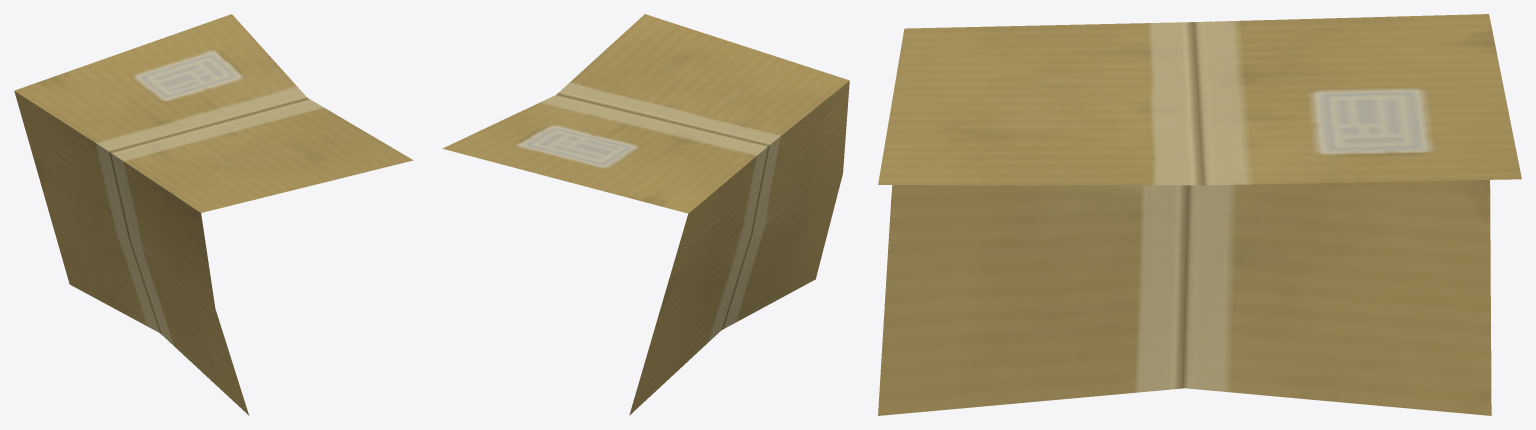
The model's file is p_mesh_vegetablebox_part01_pose1.fbx.
3 views of the same model, side by side, from view 1: azimuth 30°, elevation 25°; view 2: azimuth 150°, elevation 25°; view 3: azimuth 270°, elevation 25° (orthographic). The views are drawn at different scales.
Visible parts, largest first — view 1: p_stackedpaper_paper01_pose1; view 2: p_stackedpaper_paper01_pose1; view 3: p_stackedpaper_paper01_pose1.
Part boxes in pixels (box(x1,y1,x2,y2)): p_stackedpaper_paper01_pose1: box(14, 14, 413, 415); p_stackedpaper_paper01_pose1: box(442, 14, 849, 415); p_stackedpaper_paper01_pose1: box(878, 14, 1521, 415).
Bounding box in the file's own units: 2.17 × 2.03 × 3.12.
